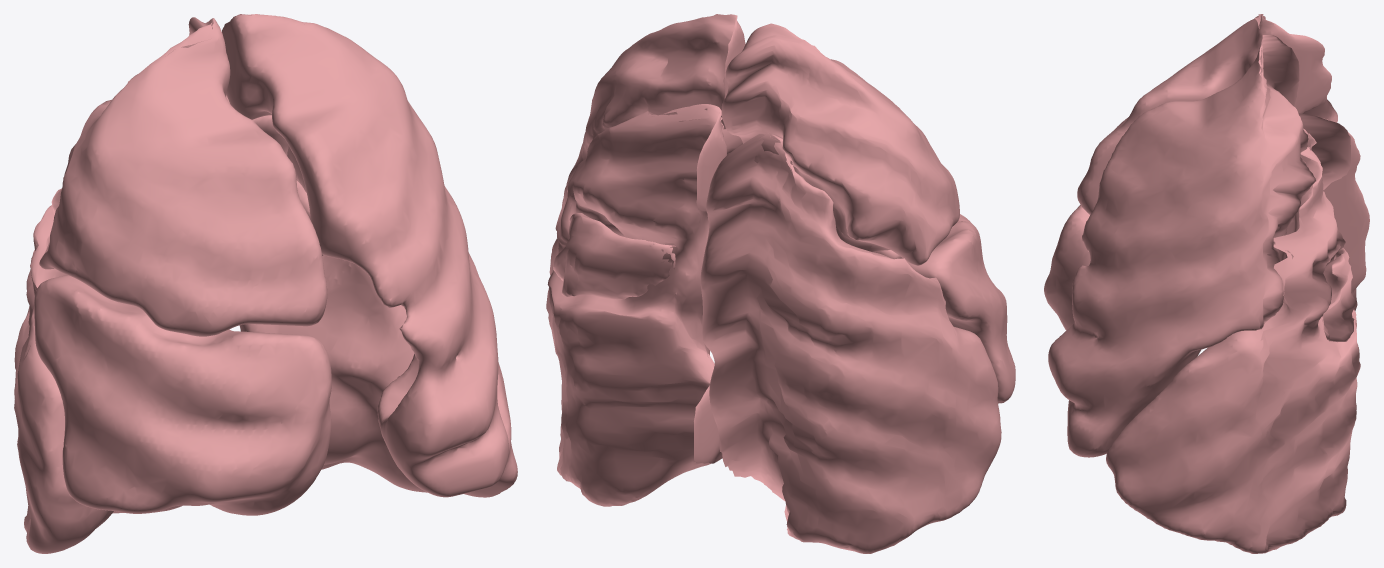
Rendered from pulmoes.glb.
The picture shows the model from 3 angles, left to right: view 1: azimuth 30°, elevation 25°; view 2: azimuth 150°, elevation 25°; view 3: azimuth 270°, elevation 25°; orthographic projection. The views are drawn at different scales.
Parts seen in each view (by area): view 1: FMA7370, FMA7333, FMA7383, FMA7371, FMA7337; view 2: FMA7337, FMA7371, FMA7333, FMA7370, FMA7383; view 3: FMA7370, FMA7371, FMA7333, FMA7337, FMA7383.
Boxes of the visible parts, x1,y1,x2,y2 form: FMA7370: (222,14,508,497); FMA7333: (39,17,327,336); FMA7383: (34,275,331,515); FMA7371: (226,95,517,497); FMA7337: (14,205,182,553); FMA7337: (700,133,1001,553); FMA7371: (546,104,726,506); FMA7333: (721,23,959,265); FMA7370: (553,14,745,299); FMA7383: (874,214,1015,403); FMA7370: (1048,34,1355,457); FMA7371: (1106,113,1360,553); FMA7333: (1077,14,1331,214); FMA7337: (1303,96,1369,328); FMA7383: (1044,205,1090,330).
Bounding box in the file's own units: 0.2595 × 0.282 × 0.1876.
